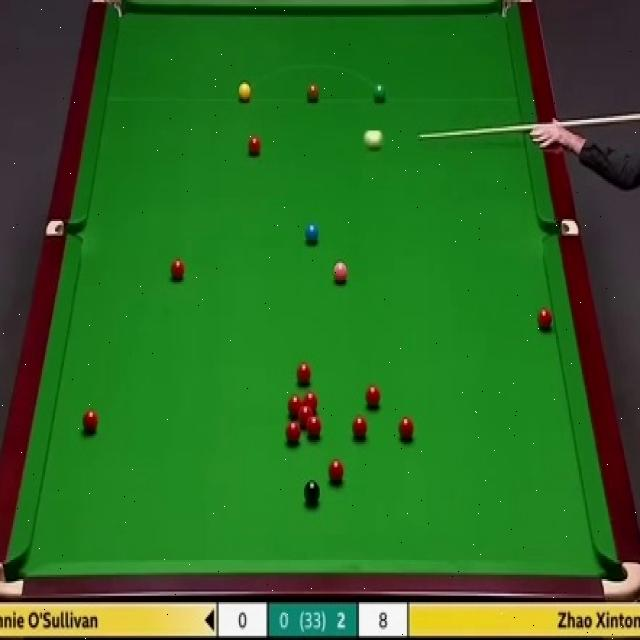black-ball: (304, 478, 321, 507)
blue-ball: (304, 222, 320, 246)
brown-ball: (306, 81, 320, 102)
green-ball: (372, 81, 386, 103)
pink-ball: (330, 262, 351, 290)
red-ball: (536, 306, 555, 336), (327, 457, 346, 485), (364, 384, 382, 409), (169, 259, 187, 283), (81, 409, 98, 433), (398, 418, 415, 442), (351, 416, 367, 441), (246, 132, 261, 158), (302, 391, 319, 412), (287, 397, 303, 419), (306, 417, 321, 440), (297, 363, 312, 386), (286, 422, 300, 444), (298, 406, 312, 425)
white-ball: (364, 127, 382, 153)
yellow-ball: (238, 82, 252, 103)
